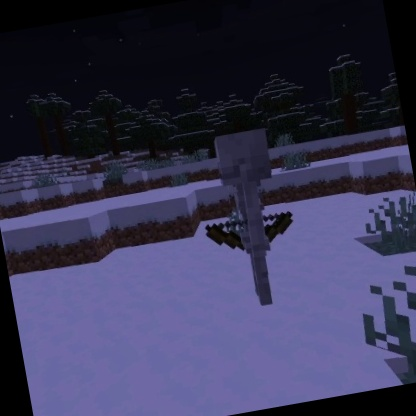skeleton: (187, 119, 313, 318)
